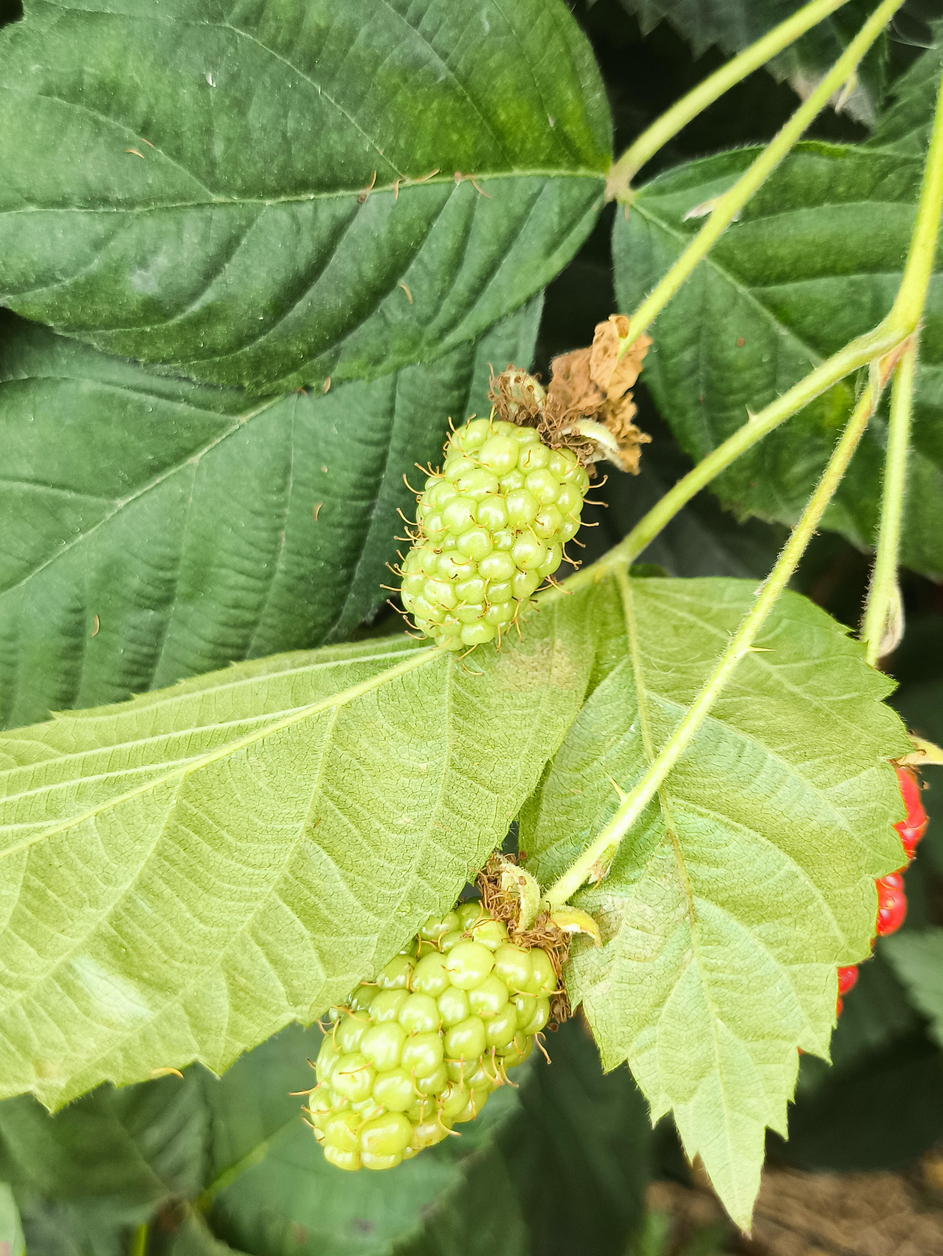verde: (312, 888, 568, 1171), (402, 420, 600, 648)
